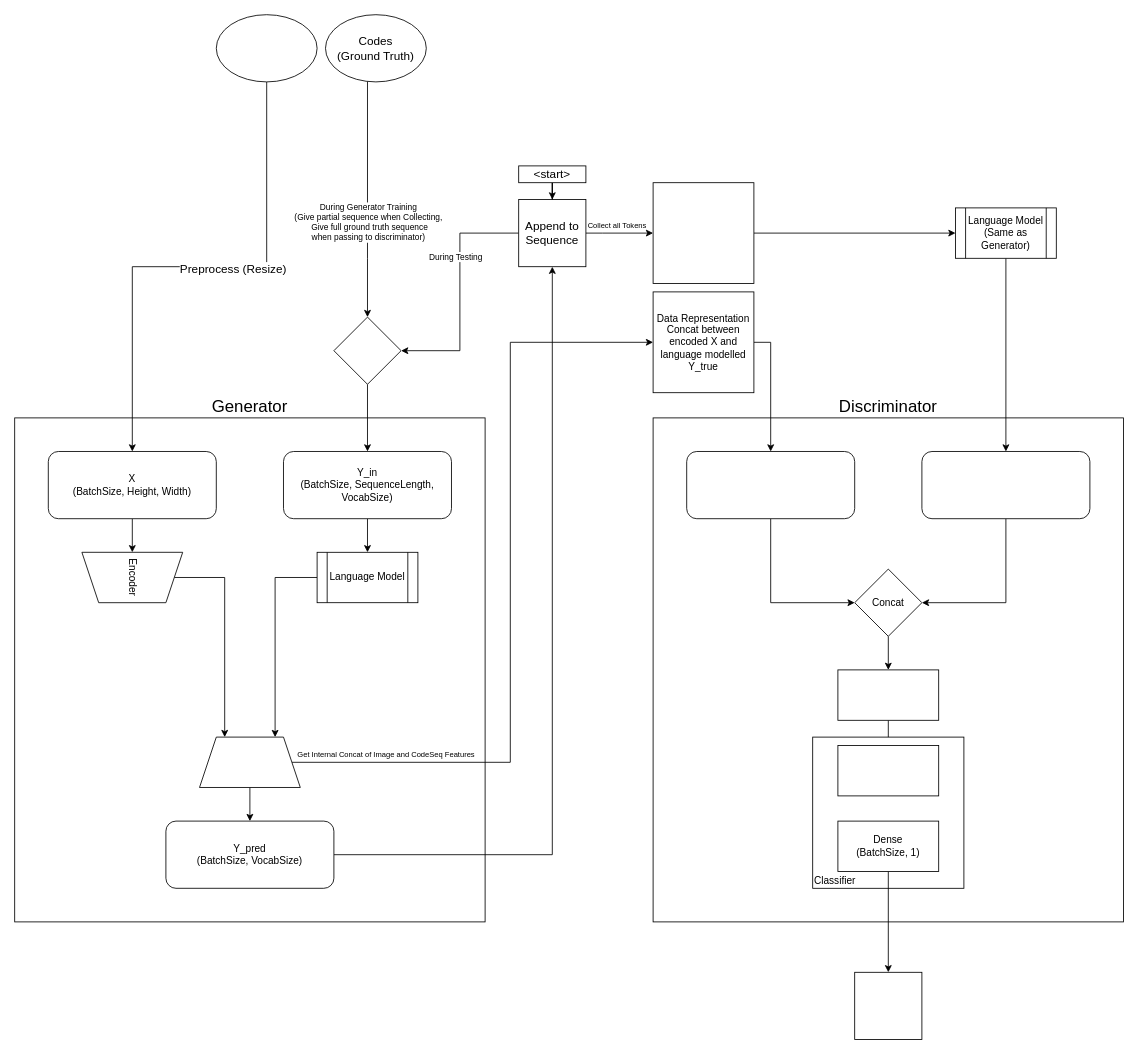
The diagram is 1138 pixels wide and 1054 high, and some of its shapes have lost their labels. Each missing label, with the centre of its shape:
"Decoder" belongs at point (249, 762).
"Discriminator Prediction" belongs at point (888, 1005).
"Final Representation (BatchSize, SequenceLength, EmbeddingDim)" belongs at point (888, 694).
"Flatten (BatchSize, TotalDim)" belongs at point (888, 770).
"Images" belongs at point (266, 48).
"Predicted Sequence" belongs at point (703, 233).
"Y_1 (BatchSize, SequenceLength, Img_EmbeddingDim + Code_EmbeddingDim)" belongs at point (770, 485).
"Y_2 (BatchSize, SequenceLength, Code_EmbeddingDim)" belongs at point (1005, 485).
